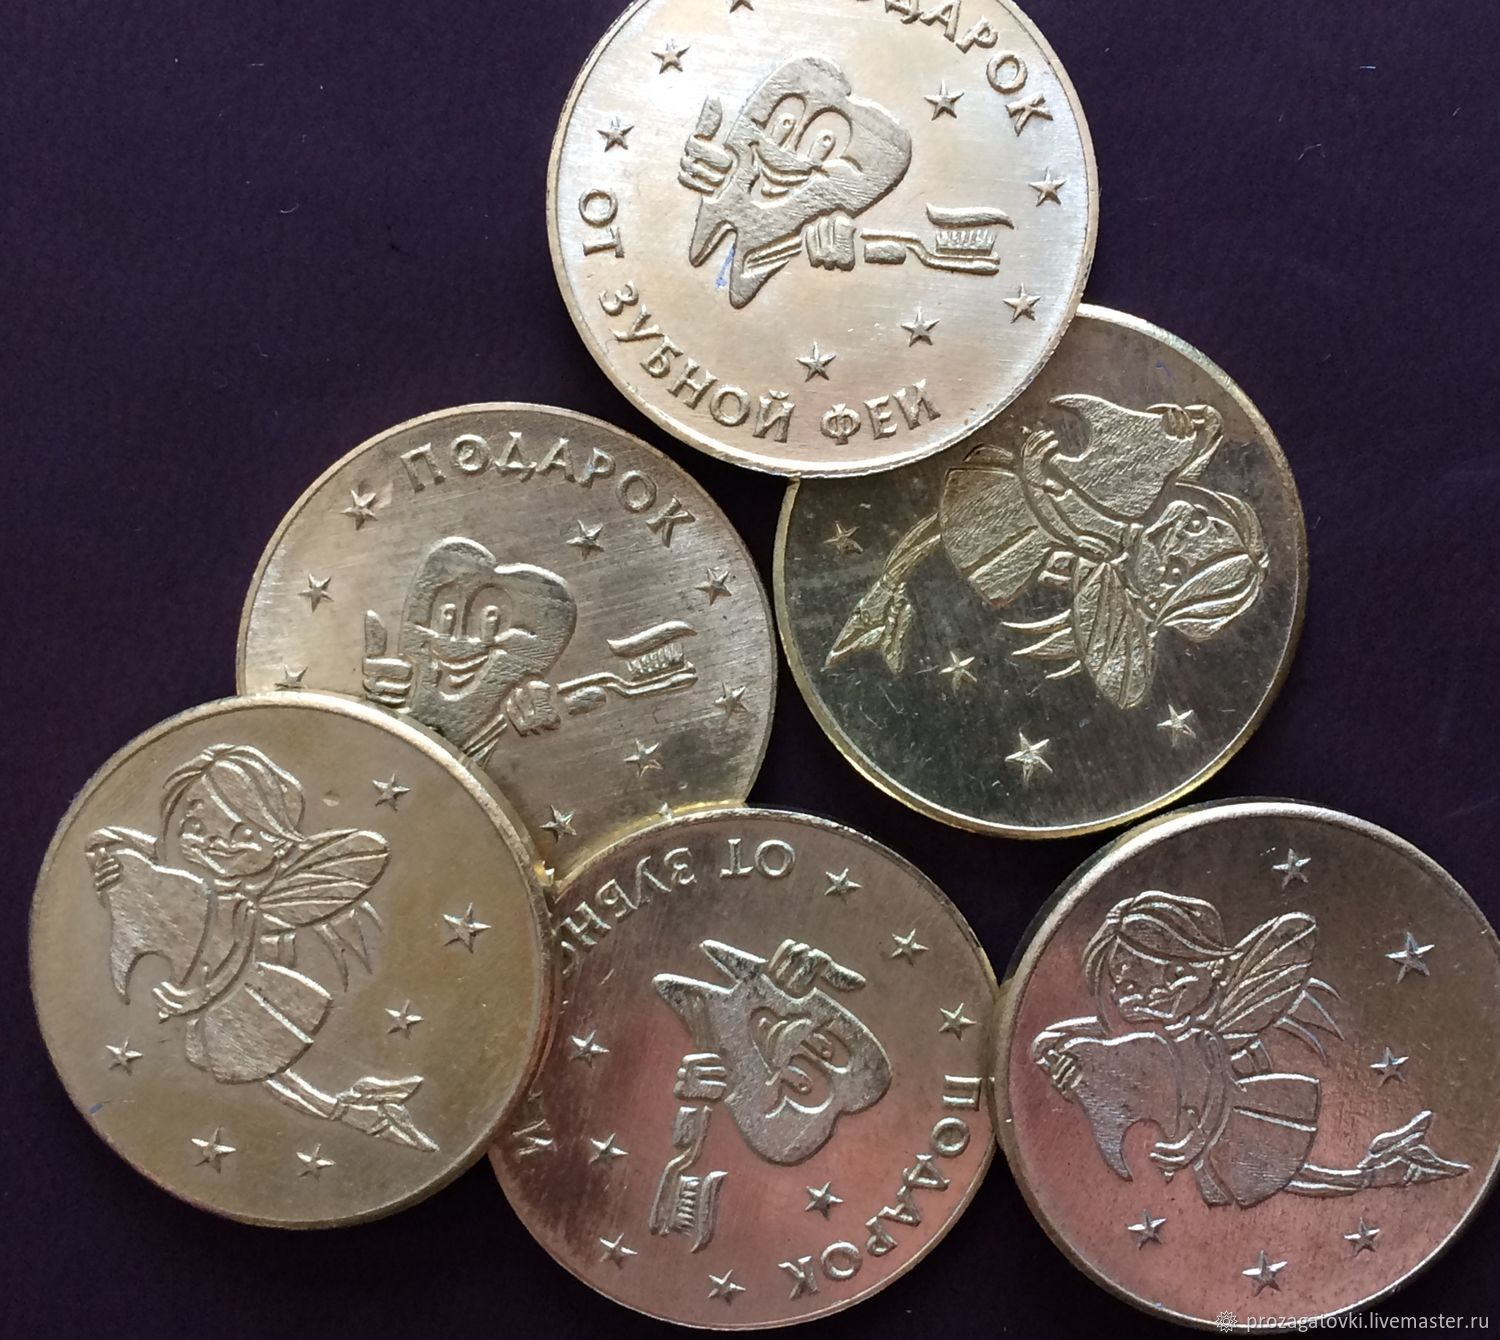coin: (768, 309, 1312, 845), (28, 691, 560, 1231), (484, 807, 1000, 1331), (544, 1, 1102, 481), (1000, 798, 1500, 1327), (234, 404, 777, 863)
